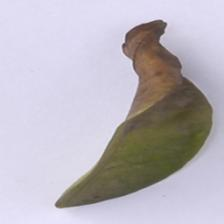black spot: (107, 38, 199, 106)
